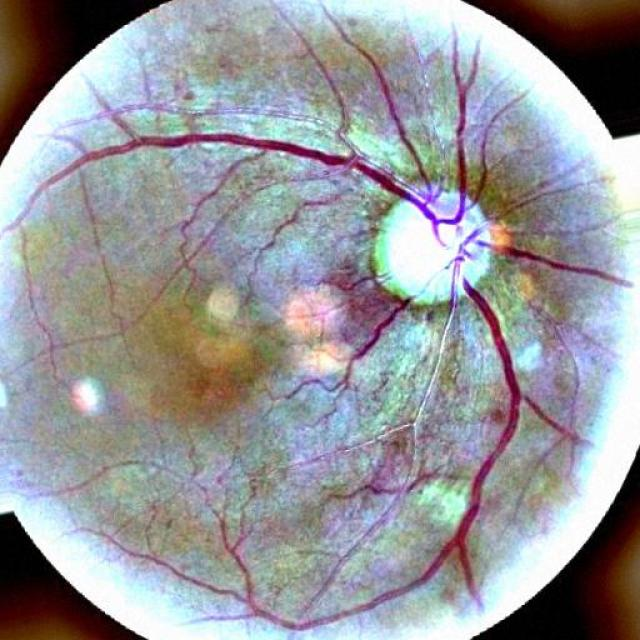Macula: (155, 338, 276, 419)
Nerves: (24, 72, 624, 631)
Optic Disk: (357, 160, 525, 325)
